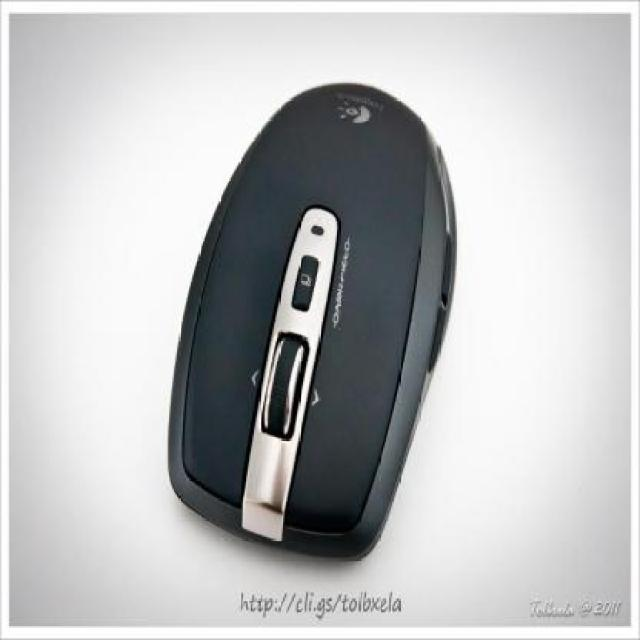mouse: (166, 84, 458, 559)
